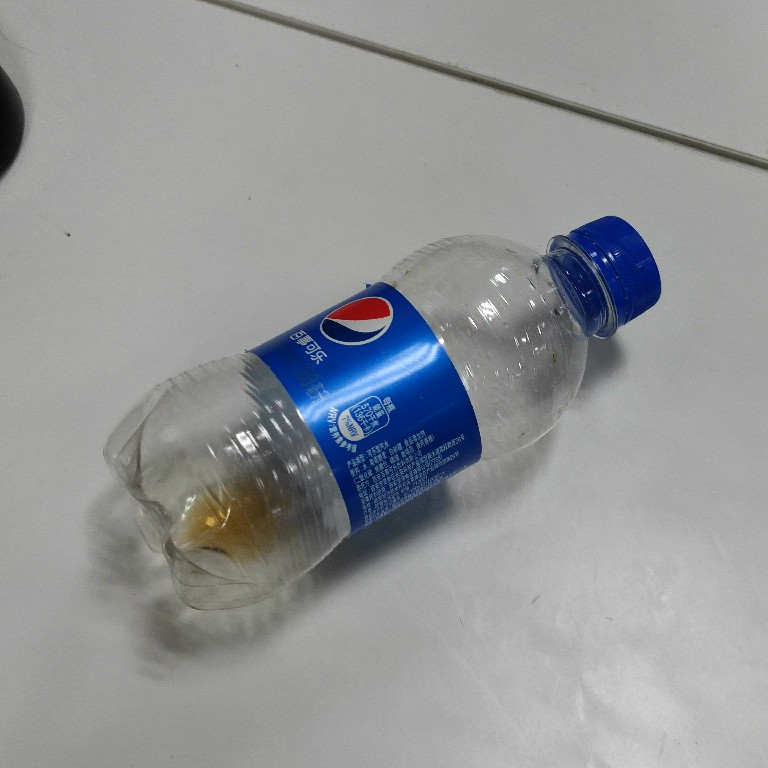bottle: (95, 205, 670, 619)
